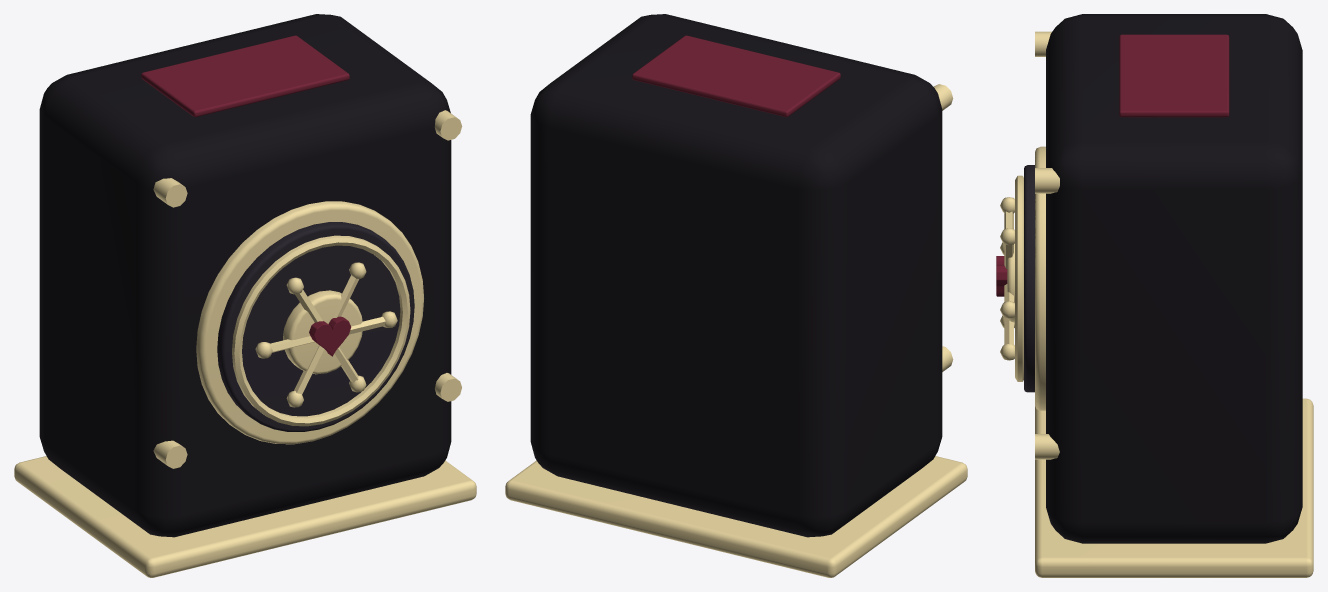
Rendered from safe_heart_vault.glb.
The picture shows the model from 3 angles, left to right: view 1: azimuth 30°, elevation 25°; view 2: azimuth 150°, elevation 25°; view 3: azimuth 270°, elevation 25°; orthographic projection.
Visible parts, largest first — view 1: safe_heart_vault; view 2: safe_heart_vault; view 3: safe_heart_vault.
Part boxes in pixels (x1,y1,x2,y2): safe_heart_vault: (14, 14, 476, 577); safe_heart_vault: (505, 14, 967, 577); safe_heart_vault: (996, 14, 1313, 577).
Bounding box in the file's own units: 1.06 × 1.28 × 0.865.
